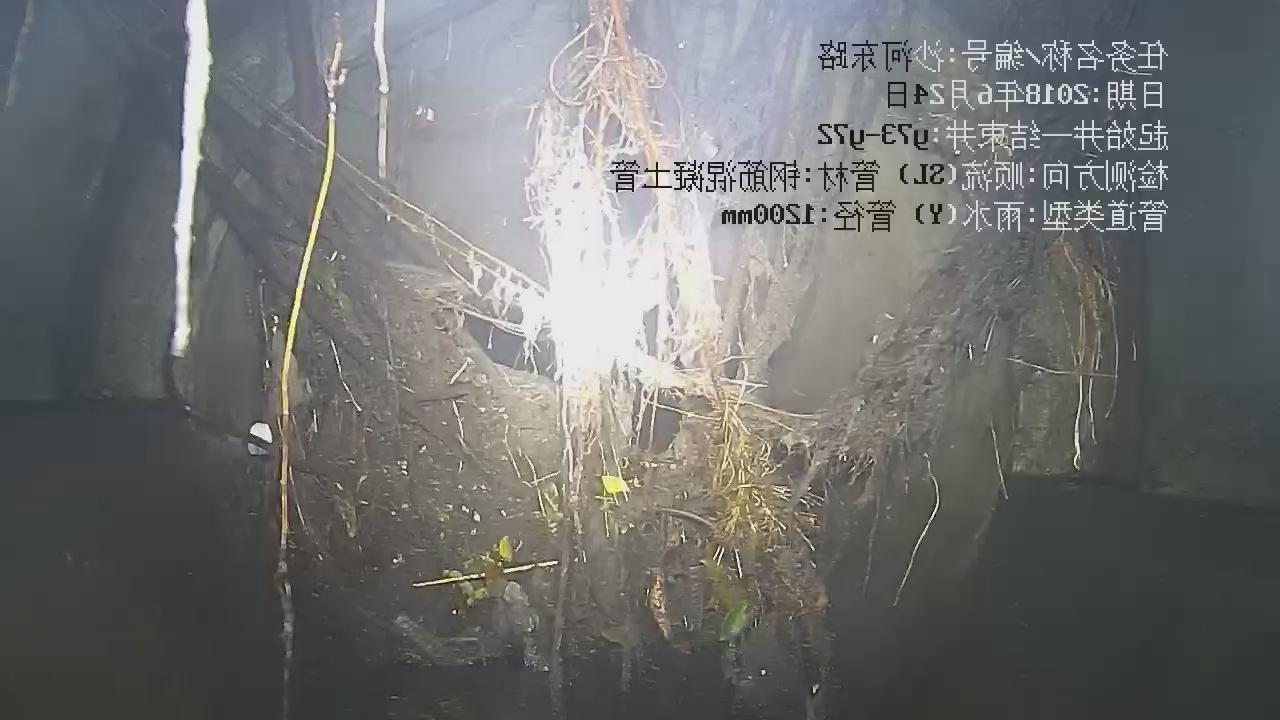SG: (173, 0, 1168, 719)
